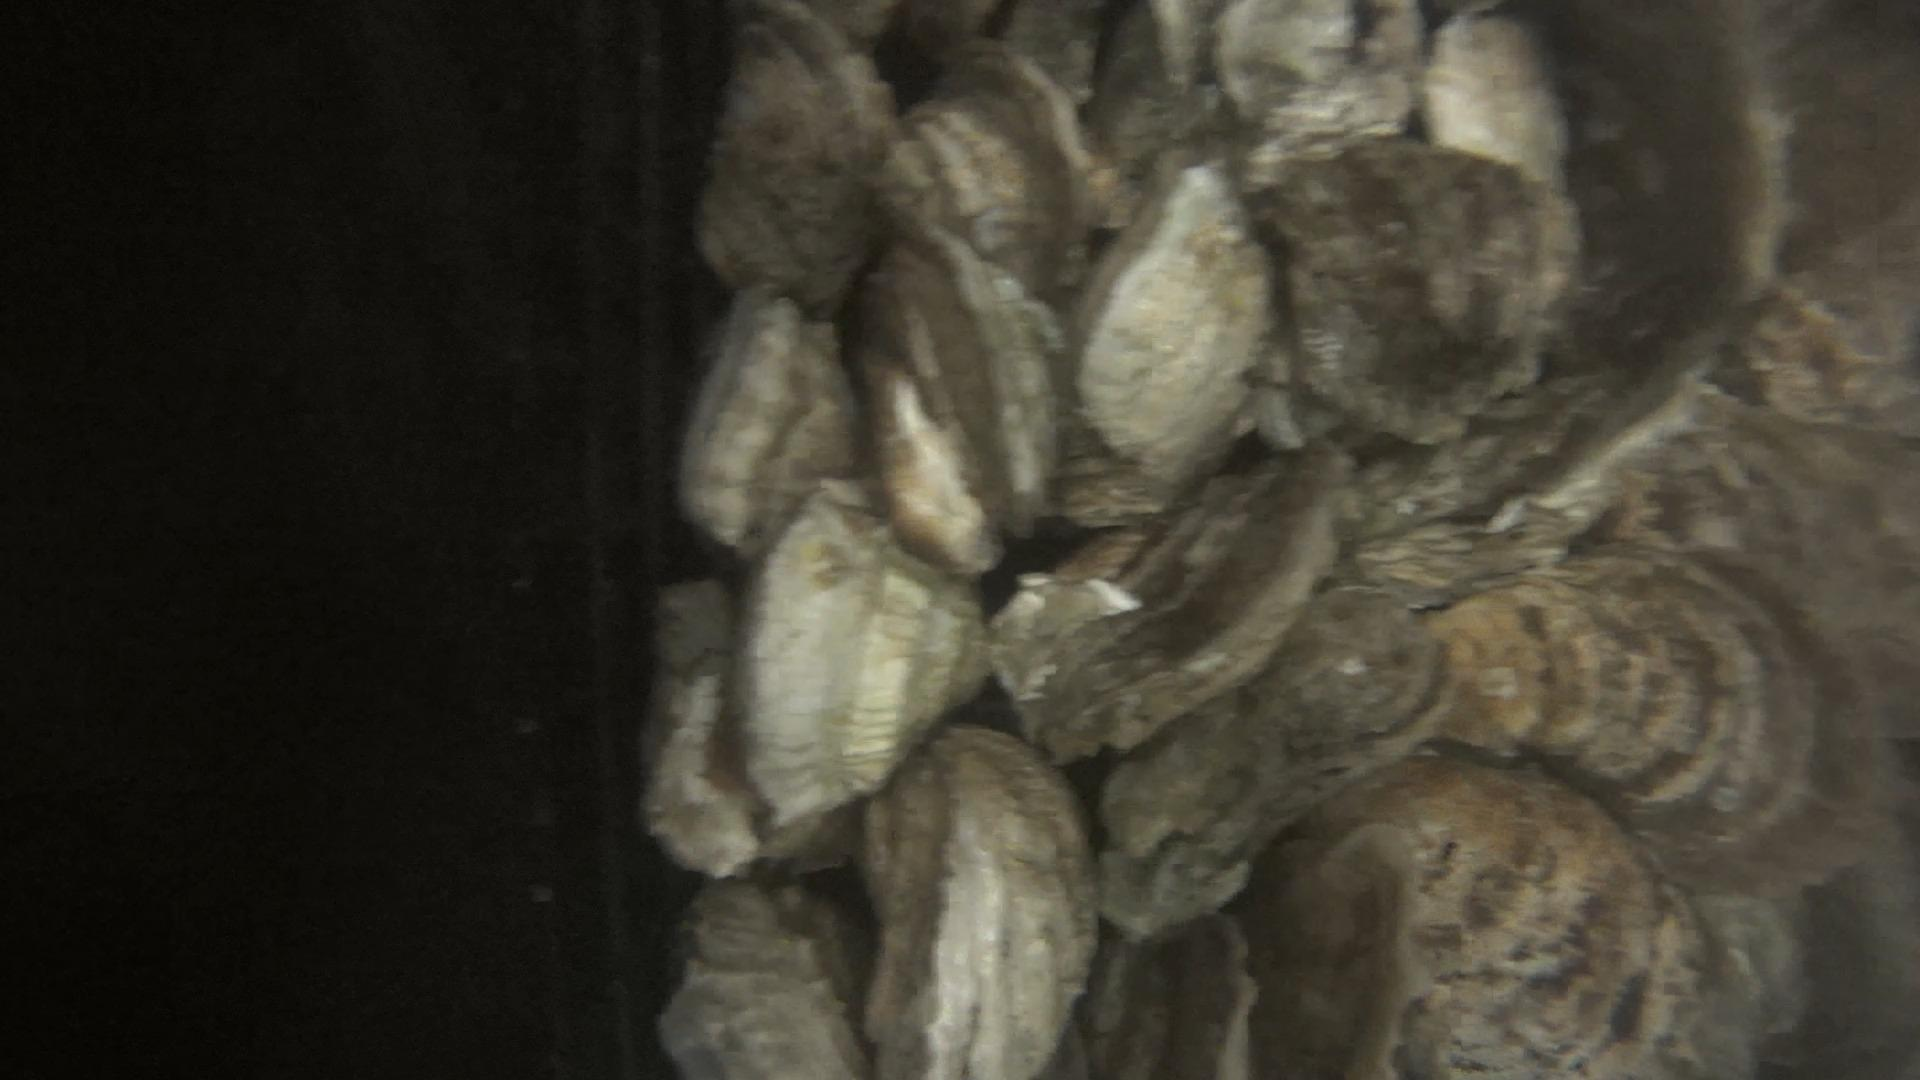Oyster- Indeterminate: (1226, 760, 1780, 1080), (1422, 579, 1815, 845), (864, 727, 1095, 1080), (1262, 146, 1568, 400), (1054, 152, 1259, 520), (679, 303, 853, 583)
Oyster-Closed: (986, 468, 1320, 762), (860, 235, 1065, 562)
